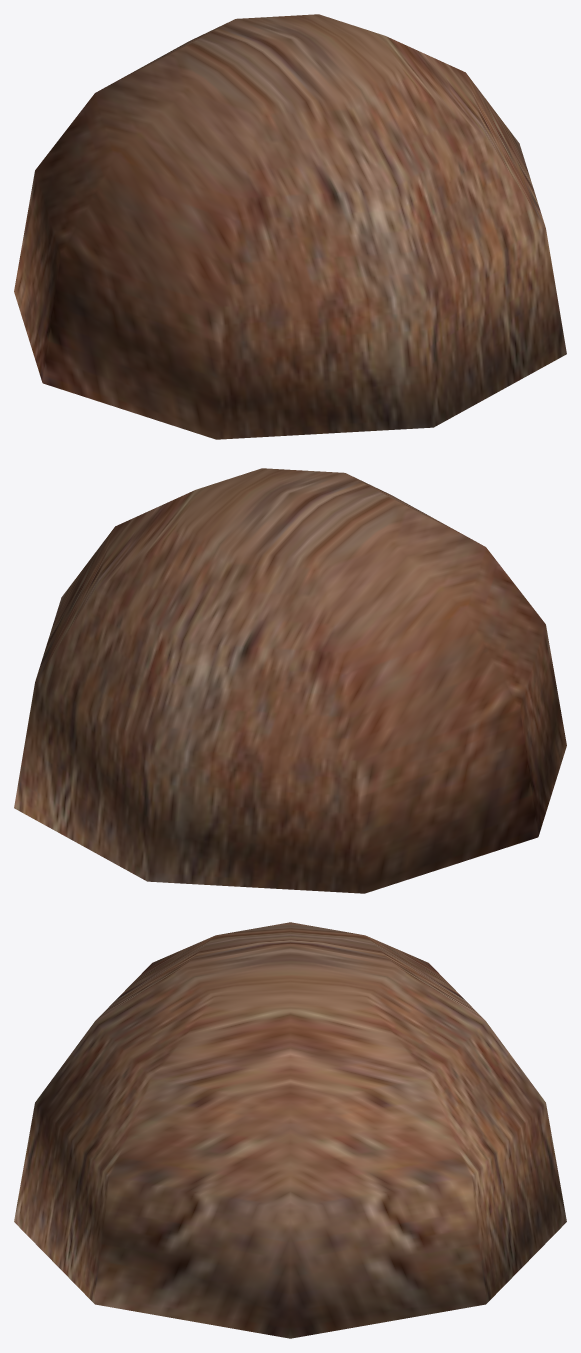
File: halfcoconut.fbx
3 renders of one model, top to bottom at view 1: azimuth 30°, elevation 25°; view 2: azimuth 150°, elevation 25°; view 3: azimuth 270°, elevation 25°, orthographic. The views are drawn at different scales.
Visible parts, largest first — view 1: Sphere; view 2: Sphere; view 3: Sphere.
Boxes of the visible parts, x1,y1,x2,y2 form: Sphere: (14, 14, 566, 439); Sphere: (14, 468, 566, 893); Sphere: (14, 922, 566, 1338).
Size of the model in its own units: 2 by 1.09 by 2.
